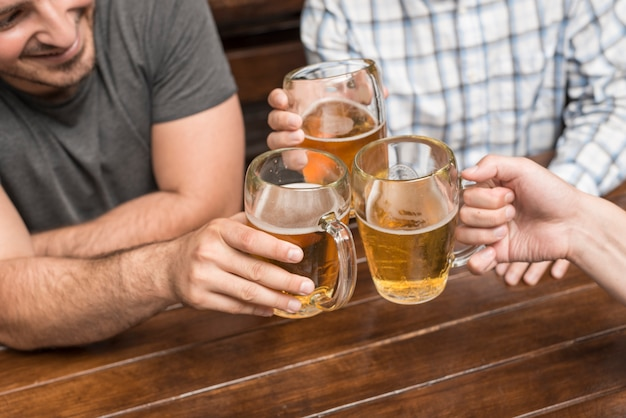alcohol: (349, 136, 509, 303), (243, 145, 358, 322), (280, 59, 388, 219)
